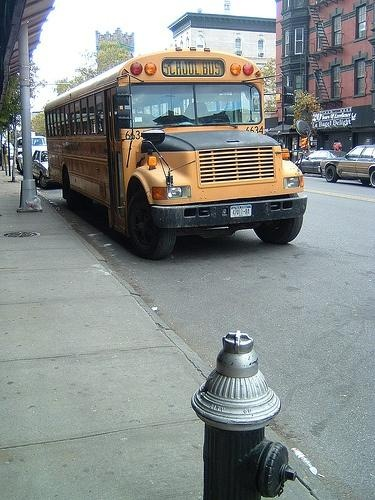bus: (43, 49, 309, 261)
car: (320, 144, 375, 190)
